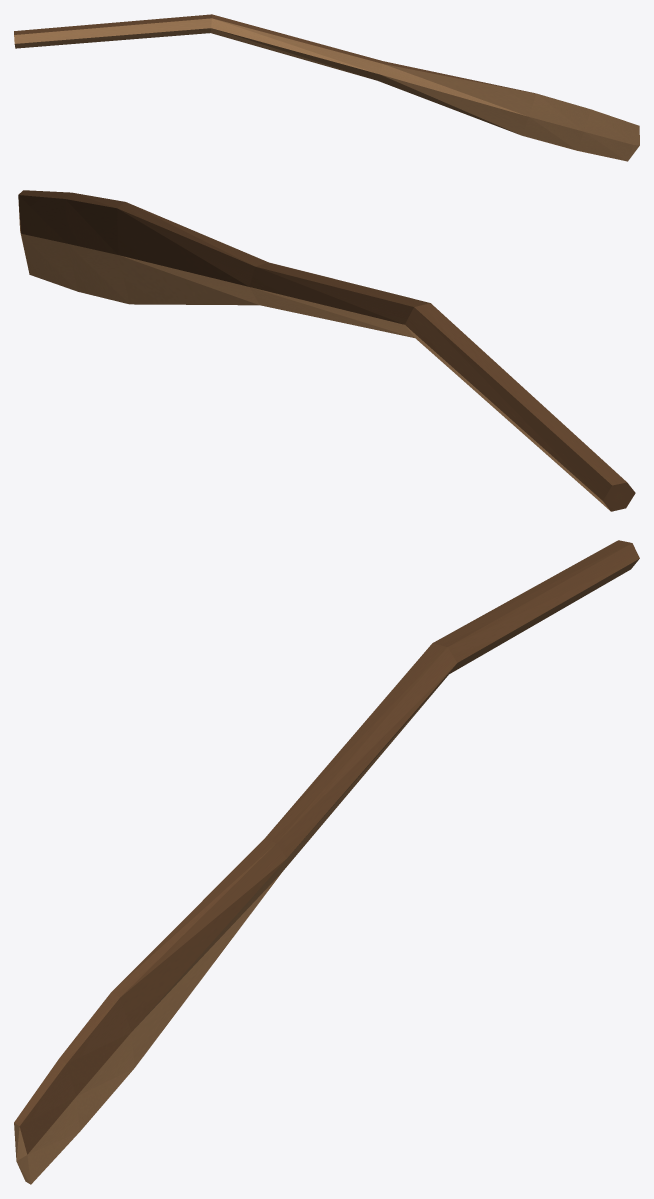
The model's file is 05c_boat_oar.obj.
3 renders of one model, top to bottom at view 1: azimuth 30°, elevation 25°; view 2: azimuth 150°, elevation 25°; view 3: azimuth 270°, elevation 25°, orthographic. The views are drawn at different scales.
Parts seen in each view (by area): view 1: Boat_Oar; view 2: Boat_Oar; view 3: Boat_Oar.
Boxes of the visible parts, <box> form: Boat_Oar: <box>14,14,639,161</box>; Boat_Oar: <box>18,190,635,511</box>; Boat_Oar: <box>14,540,639,1184</box>.
Size of the model in its own units: 1.2 by 0.3441 by 0.7485.
Materials: 1 (1 with a texture image).
